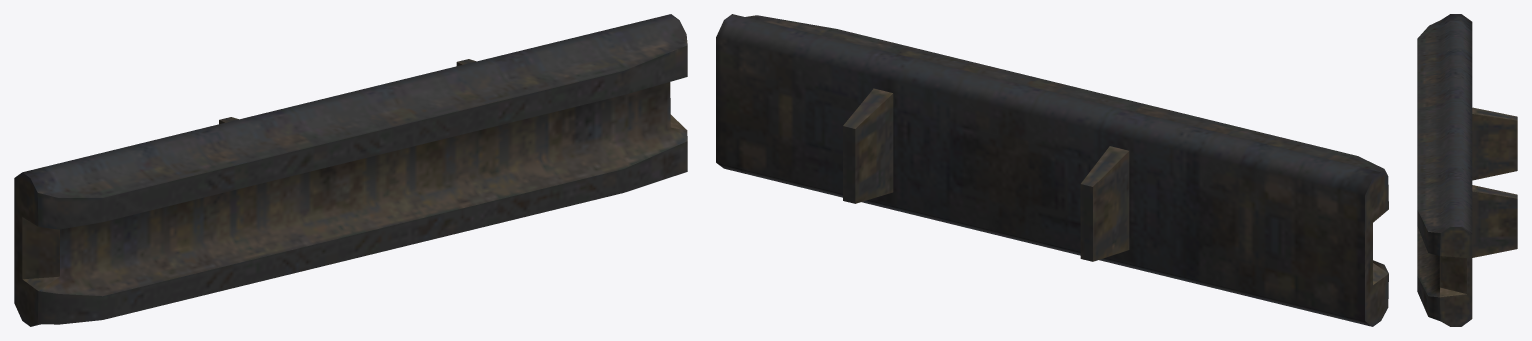
The picture shows the model from 3 angles, left to right: view 1: azimuth 30°, elevation 25°; view 2: azimuth 150°, elevation 25°; view 3: azimuth 270°, elevation 25°; orthographic projection. The views are drawn at different scales.
Visible parts, largest first — view 1: set_0_group_0; view 2: set_0_group_0; view 3: set_0_group_0.
Boxes of the visible parts, left/top/right/bottom form: set_0_group_0: left=14, top=14, right=687, bottom=326; set_0_group_0: left=716, top=14, right=1388, bottom=326; set_0_group_0: left=1417, top=14, right=1517, bottom=326.
Size of the model in its own units: 0.9943 by 0.2176 by 0.1977.
1 material, 1 textured.
